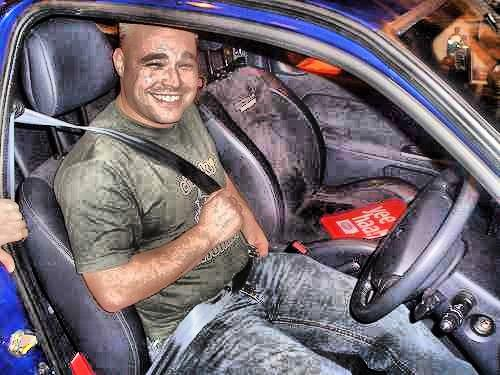seatbelt: (7, 108, 253, 246)
